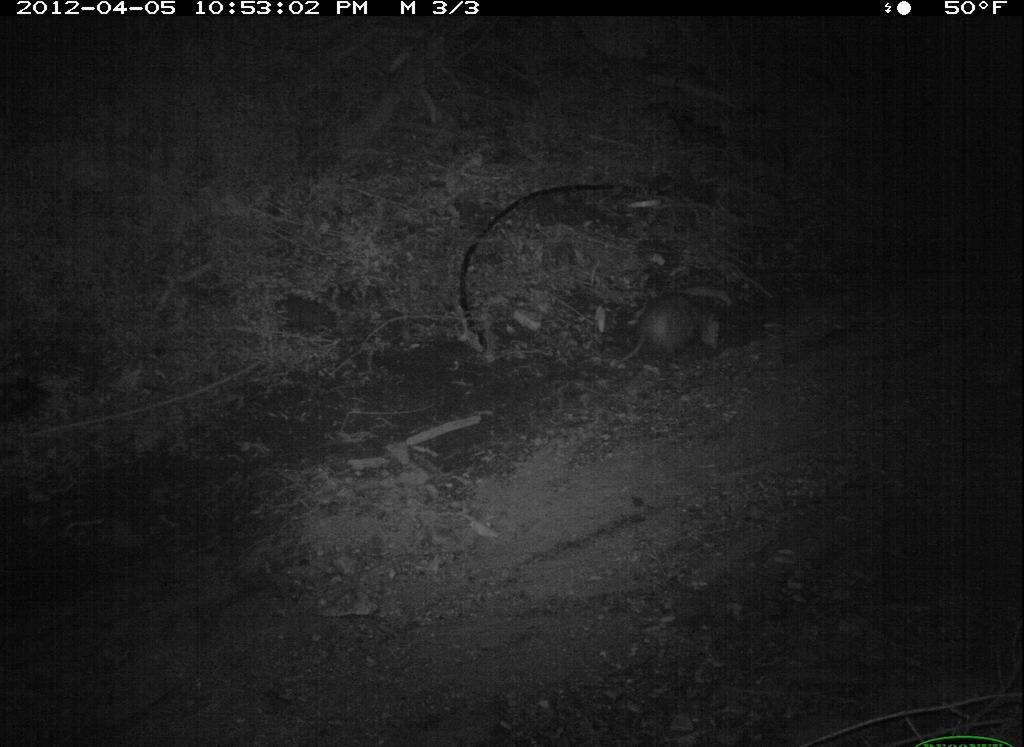opossum: (606, 285, 730, 383)
